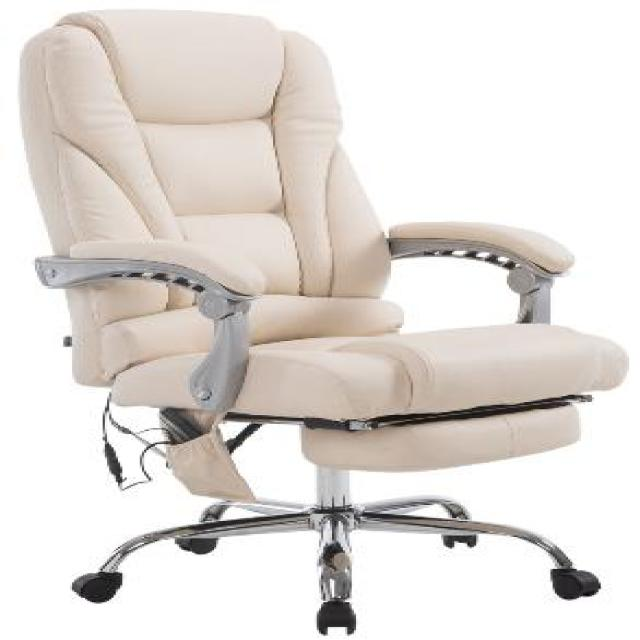chair: (15, 7, 629, 636)
